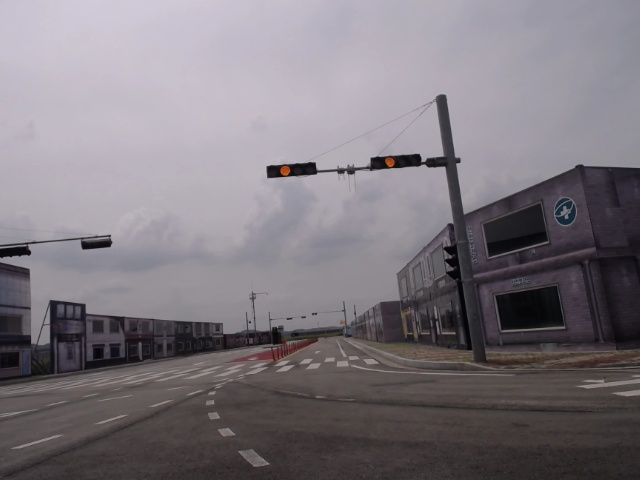orange_4: (265, 162, 318, 179), (367, 154, 423, 169)
